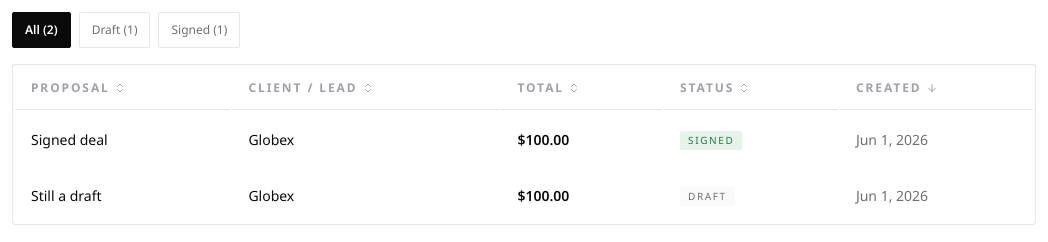
it: ProposalsTable › filters by status
Click the button "Signed (1)" at (199, 30), box [158,12,240,48]
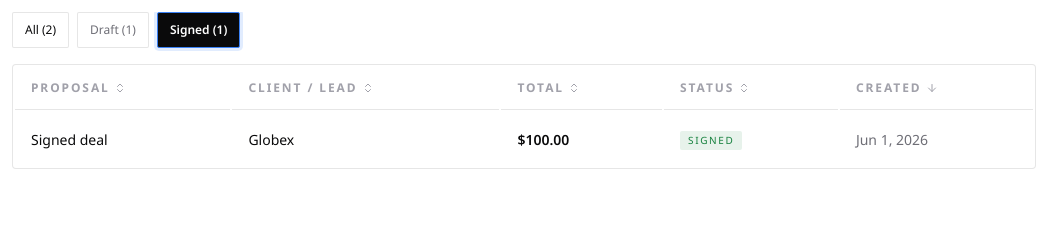
Expected: the link "Signed deal" is shown, [31,130,108,148]
Result: the link "Still a draft" is gone
